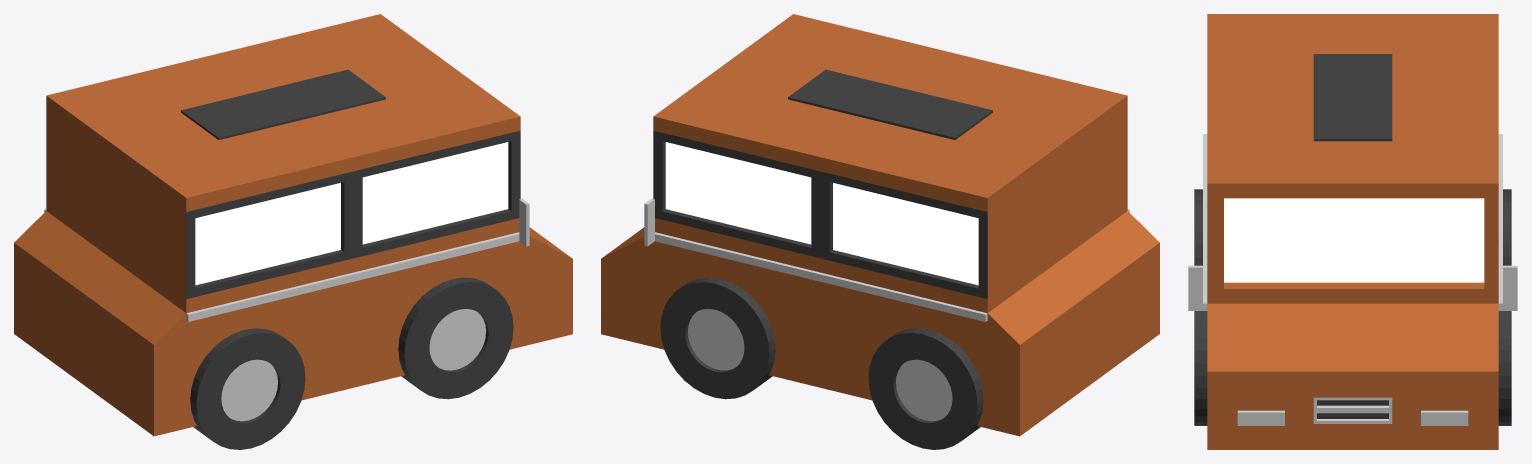
Rendered from Car 2.1.fbx.
The picture shows the model from 3 angles, left to right: view 1: azimuth 30°, elevation 25°; view 2: azimuth 150°, elevation 25°; view 3: azimuth 270°, elevation 25°; orthographic projection. The views are drawn at different scales.
Visible parts, largest first — view 1: Car_1.001; view 2: Car_1.001; view 3: Car_1.001.
Boxes of the visible parts, x1,y1,x2,y2 form: Car_1.001: [14, 14, 572, 449]; Car_1.001: [601, 14, 1159, 449]; Car_1.001: [1188, 14, 1517, 449].
Size of the model in its own units: 384 by 228 by 249.
